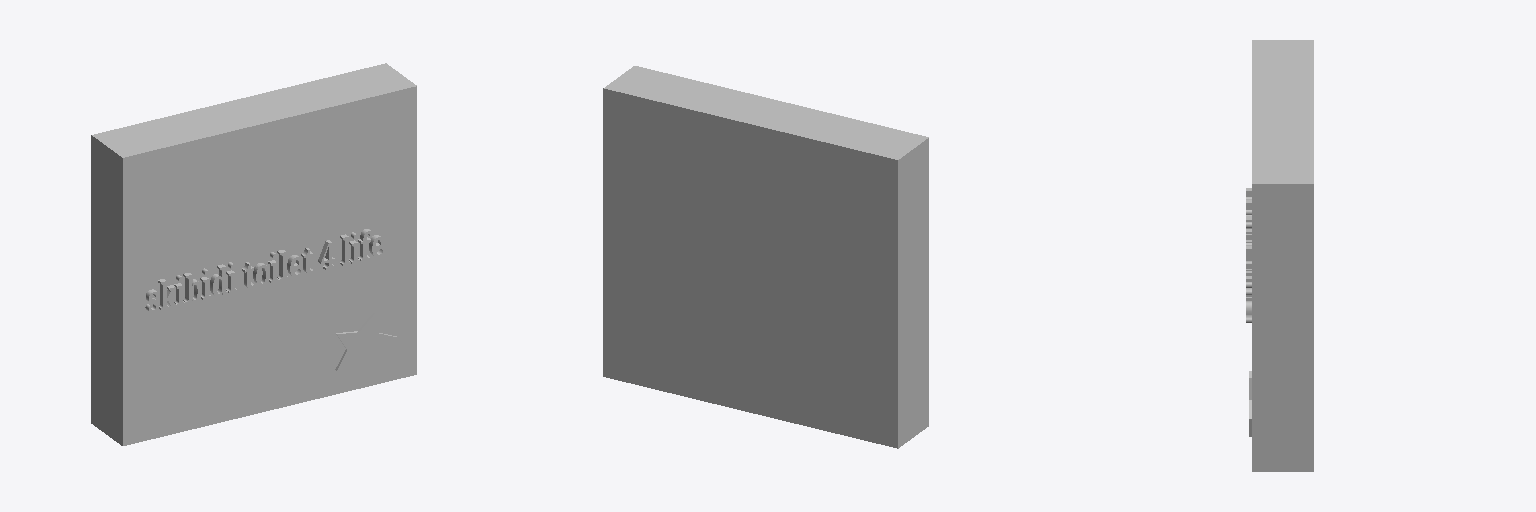
The model's file is tinker.obj.
3 views of the same model, side by side, from view 1: azimuth 30°, elevation 25°; view 2: azimuth 150°, elevation 25°; view 3: azimuth 270°, elevation 25° (orthographic).
Parts seen in each view (by area): view 1: obj_0; view 2: obj_0; view 3: obj_0.
Part boxes in pixels (bbox=[...]): obj_0: bbox=[91, 63, 416, 445]; obj_0: bbox=[603, 66, 928, 448]; obj_0: bbox=[1246, 40, 1313, 471].
Size of the model in its own units: 109 by 102 by 22.